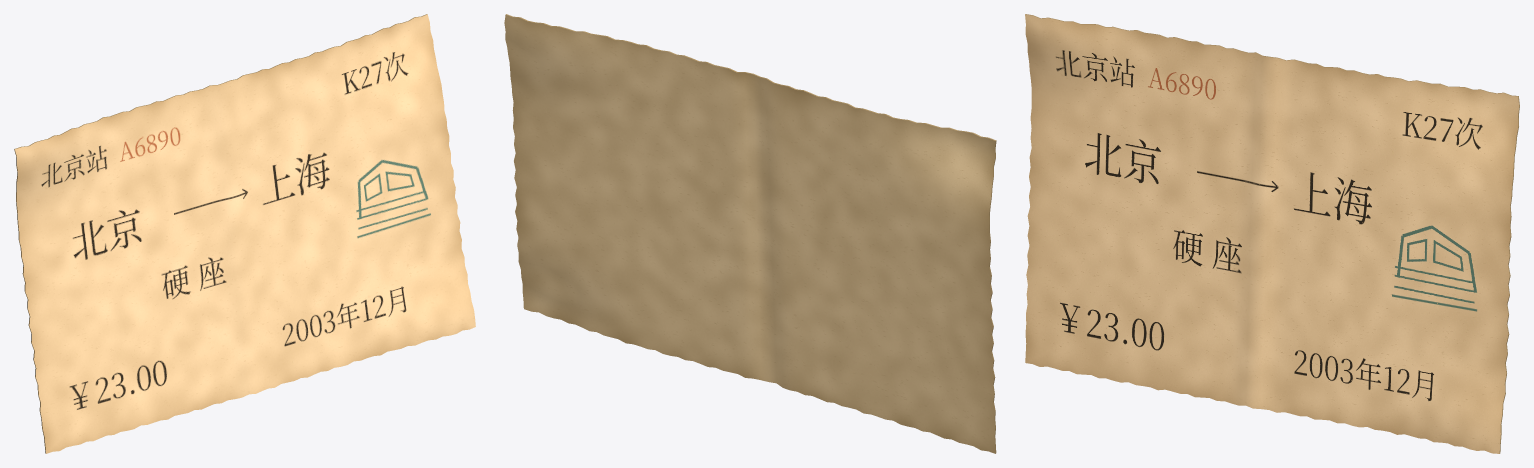
File: ticket.glb
3 renders of one model, left to right at view 1: azimuth 30°, elevation 25°; view 2: azimuth 150°, elevation 25°; view 3: azimuth 330°, elevation 25°, orthographic. The views are drawn at different scales.
Visible parts, largest first — view 1: ticket-front, paper-cut-fibre-edge; view 2: ticket-back, paper-cut-fibre-edge; view 3: ticket-front, paper-cut-fibre-edge.
Part boxes in pixels (x1=…): ticket-front: x1=15, y1=14, x2=475, y2=453; paper-cut-fibre-edge: x1=14, y1=14, x2=427, y2=453; ticket-back: x1=504, y1=15, x2=995, y2=453; paper-cut-fibre-edge: x1=506, y1=14, x2=996, y2=453; ticket-front: x1=1025, y1=14, x2=1519, y2=453; paper-cut-fibre-edge: x1=1025, y1=14, x2=1519, y2=453.
Size of the model in its own units: 0.0932 by 0.0638 by 0.0123.
Materials: 3 (2 with a texture image).
